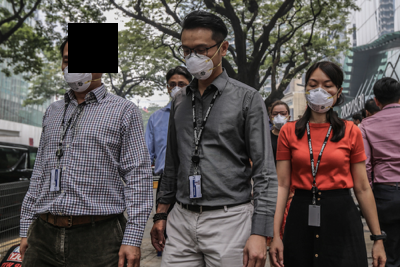with_mask: (179, 41, 218, 83), (59, 53, 98, 94), (303, 78, 335, 114), (167, 79, 188, 100), (270, 109, 289, 130)
